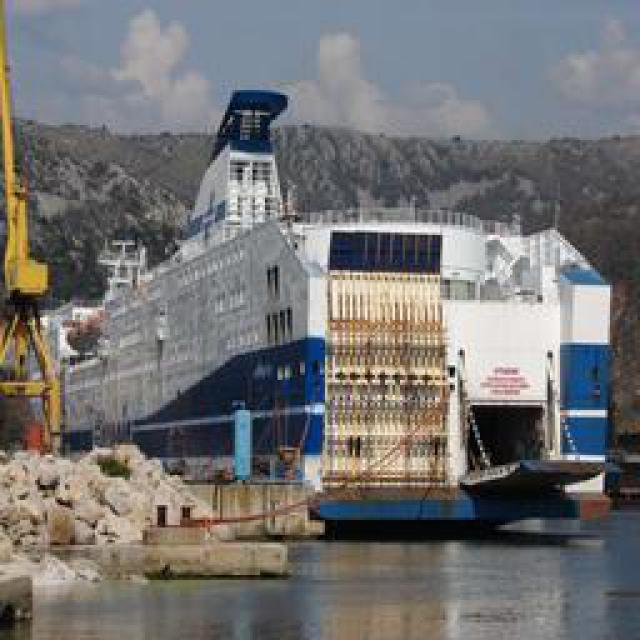Ship: (14, 128, 589, 548)
